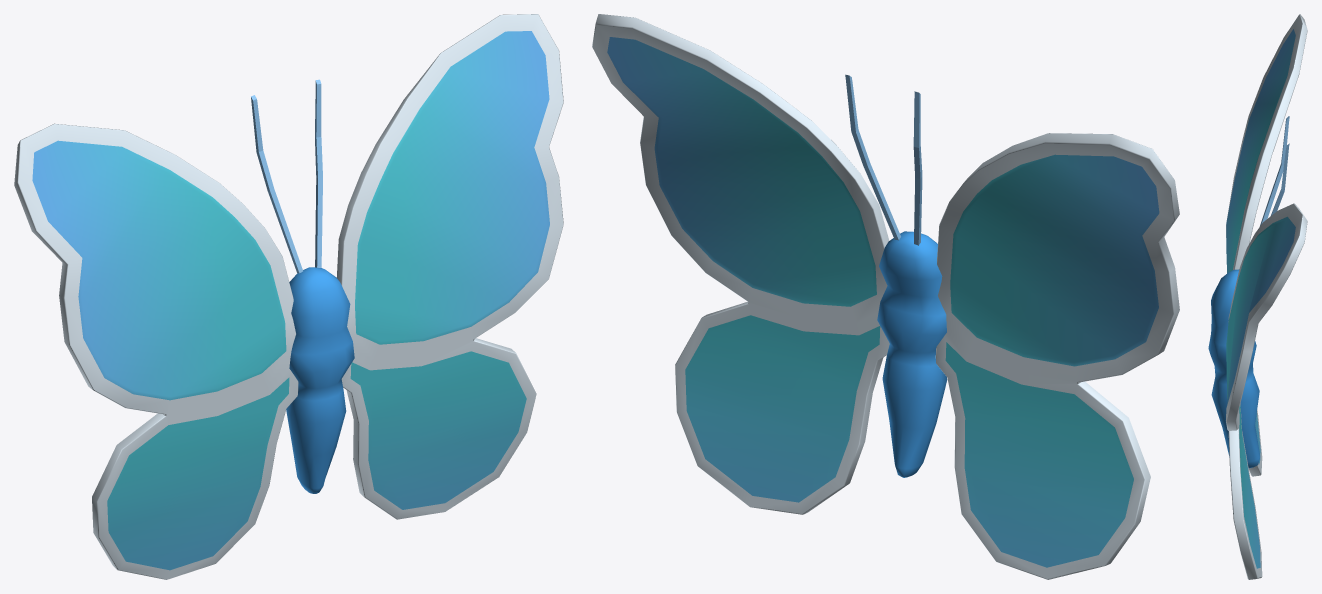
Rendered from Backpack_004.glb.
The picture shows the model from 3 angles, left to right: view 1: azimuth 30°, elevation 25°; view 2: azimuth 150°, elevation 25°; view 3: azimuth 270°, elevation 25°; orthographic projection. The views are drawn at different scales.
Parts seen in each view (by area): view 1: Backpack_004; view 2: Backpack_004; view 3: Backpack_004.
Boxes of the visible parts, x1,y1,x2,y2 form: Backpack_004: [14, 14, 563, 579]; Backpack_004: [592, 14, 1179, 579]; Backpack_004: [1208, 14, 1307, 579].
Bounding box in the file's own units: 1.05 × 0.8425 × 0.1891.
Materials: 1 (1 with a texture image).
